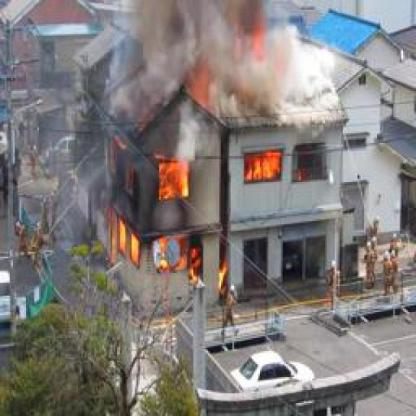fire: (243, 146, 287, 186), (158, 157, 188, 204), (185, 246, 202, 286), (215, 259, 230, 300), (116, 219, 128, 255), (128, 235, 142, 264)
